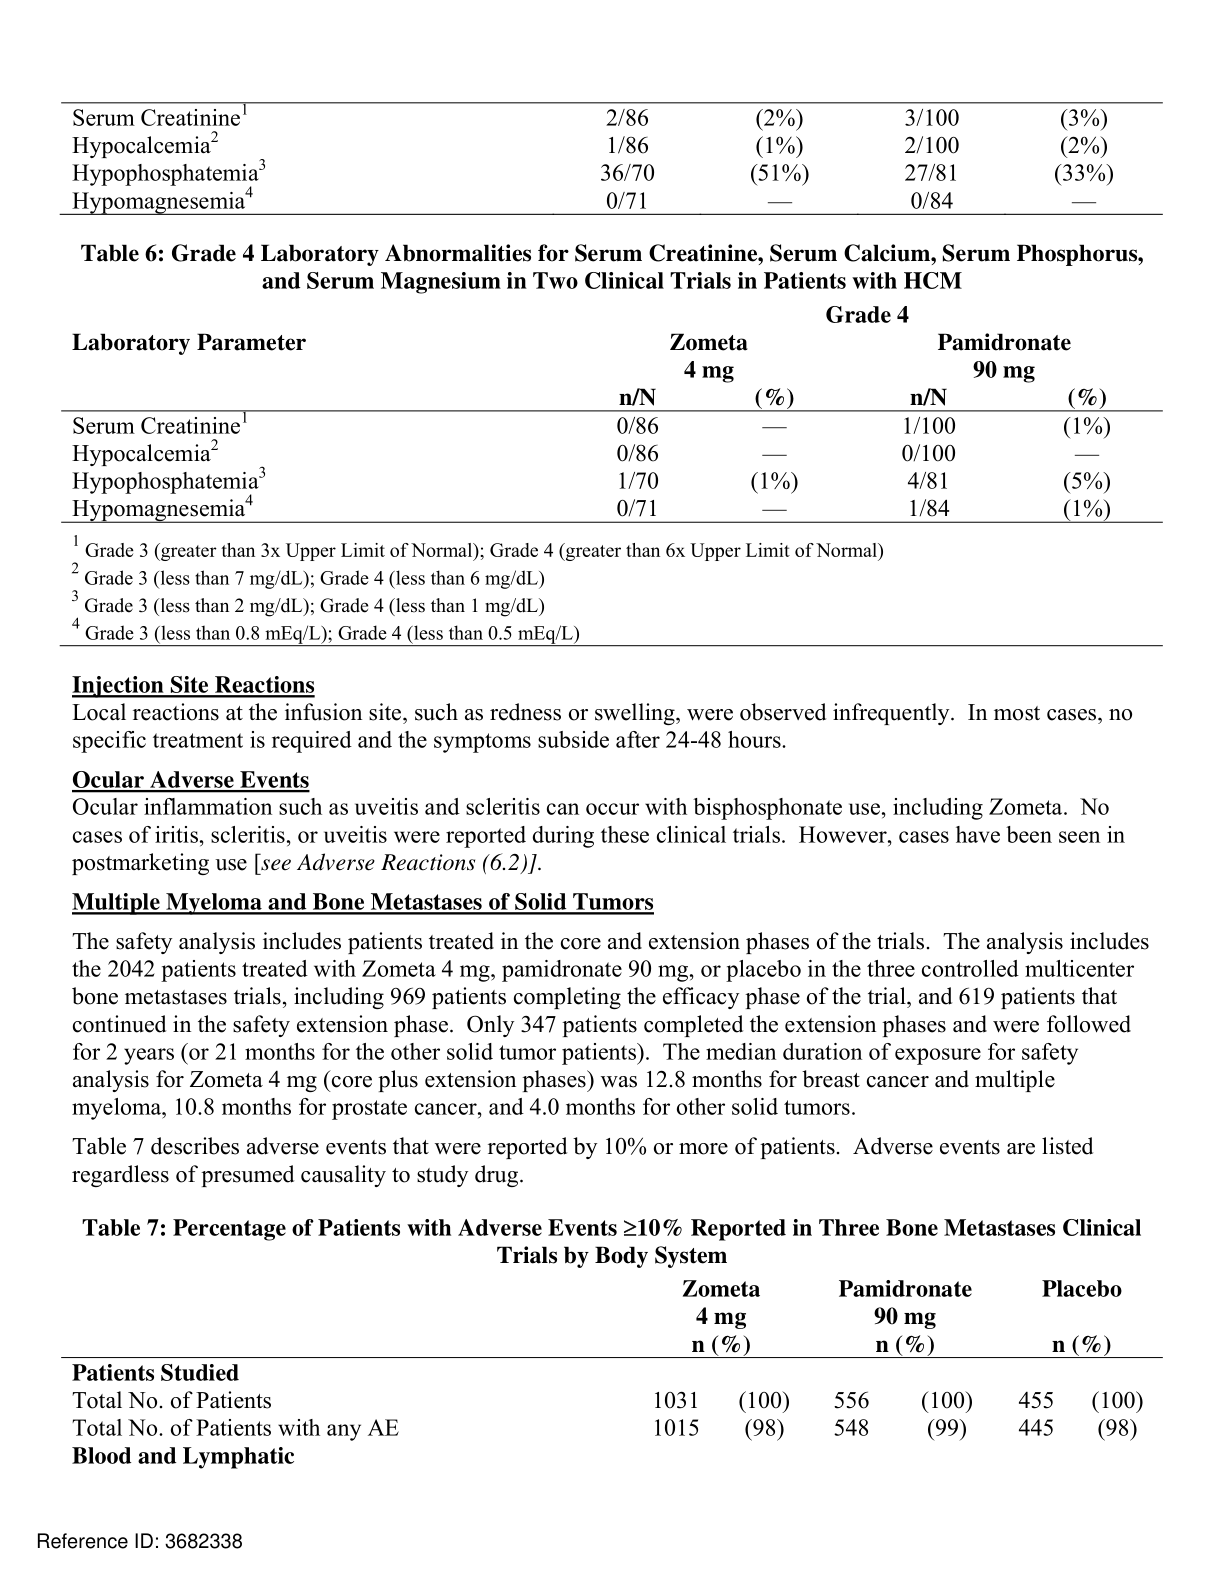partial_lined: (58, 102, 1166, 217)
partial_lined_merged_cells: (58, 327, 1166, 525), (57, 1275, 1171, 1472)
